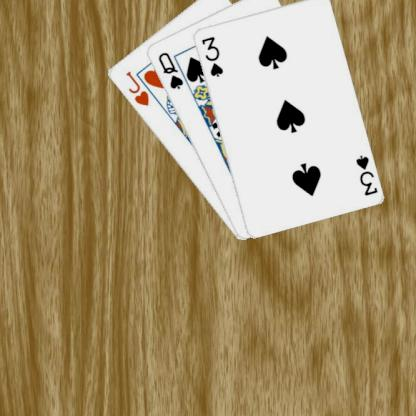3S: (198, 33, 224, 78), (352, 152, 378, 197)
JH: (122, 68, 150, 108)
QS: (155, 50, 184, 90)
